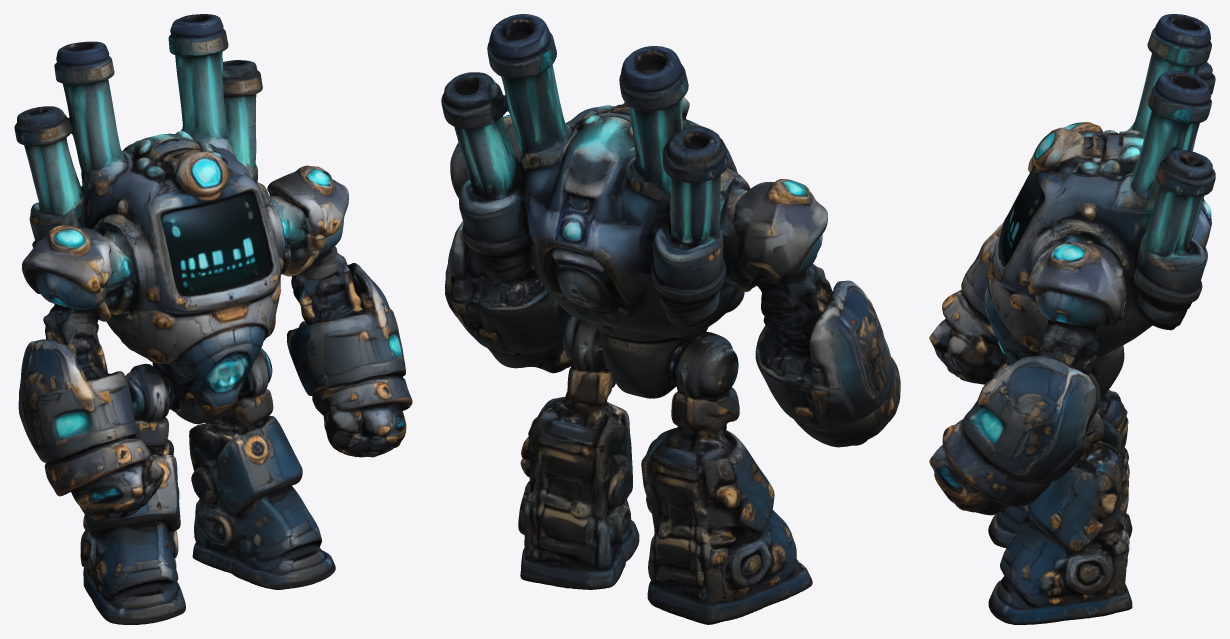
File: volumax.glb
3 views of the same model, side by side, from view 1: azimuth 30°, elevation 25°; view 2: azimuth 150°, elevation 25°; view 3: azimuth 270°, elevation 25° (orthographic). The views are drawn at different scales.
Parts seen in each view (by area): view 1: geometry_0; view 2: geometry_0; view 3: geometry_0.
Boxes of the visible parts, x1,y1,x2,y2 form: geometry_0: (14,14,412,624); geometry_0: (441,14,900,624); geometry_0: (929,14,1215,624).
Bounding box in the file's own units: 0.7434 × 1 × 0.498.
Materials: 1 (1 with a texture image).
